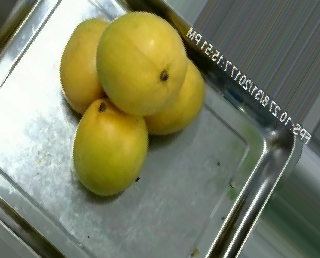Mango: (95, 9, 188, 116), (67, 99, 153, 200), (134, 56, 207, 138), (59, 18, 122, 113)
